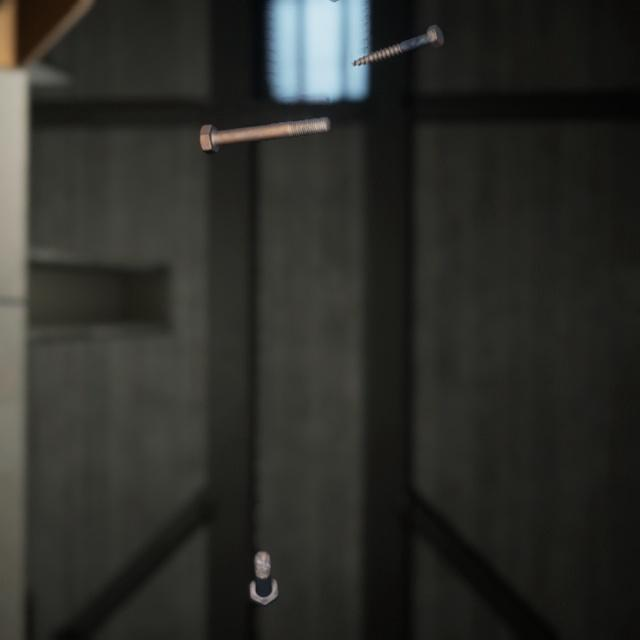bolt: (195, 99, 335, 145), (346, 11, 448, 62), (245, 522, 282, 588)
